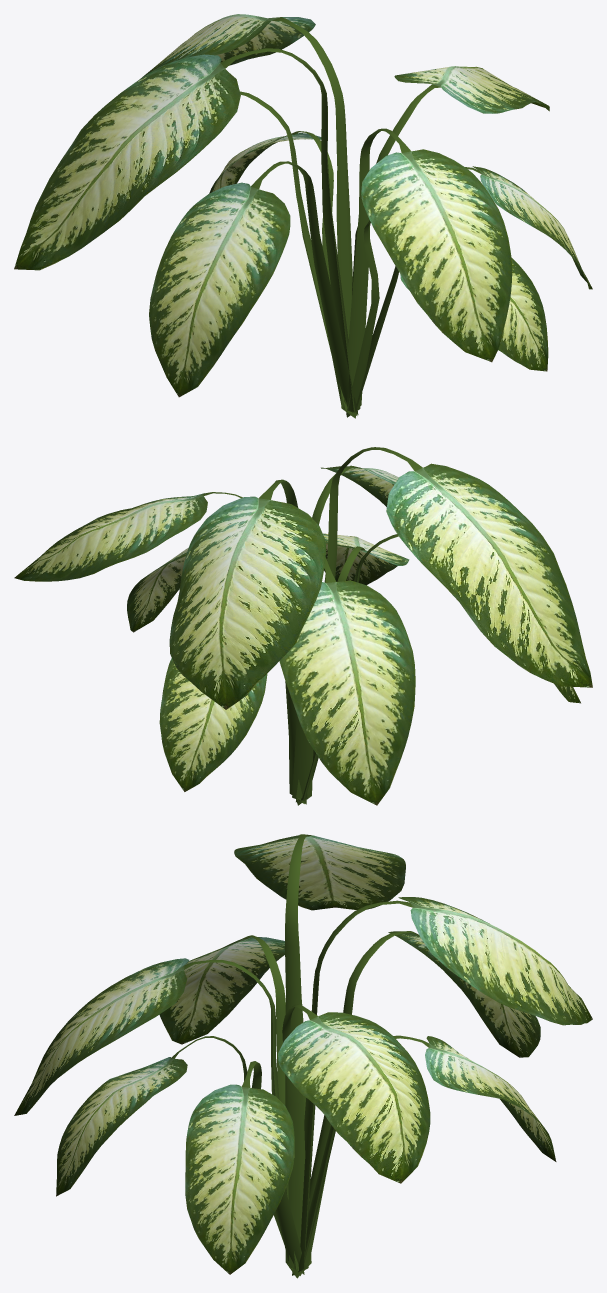
File: Dieffenbachia3.fbx
3 renders of one model, top to bottom at view 1: azimuth 30°, elevation 25°; view 2: azimuth 150°, elevation 25°; view 3: azimuth 270°, elevation 25°, orthographic. The views are drawn at different scales.
Visible parts, largest first — view 1: Dieffenbachia3; view 2: Dieffenbachia3; view 3: Dieffenbachia3.
Part boxes in pixels (bbox=[...]): Dieffenbachia3: bbox=[14, 14, 592, 418]; Dieffenbachia3: bbox=[14, 447, 592, 805]; Dieffenbachia3: bbox=[14, 834, 592, 1278].
Bounding box in the file's own units: 76.64 × 50.32 × 68.
